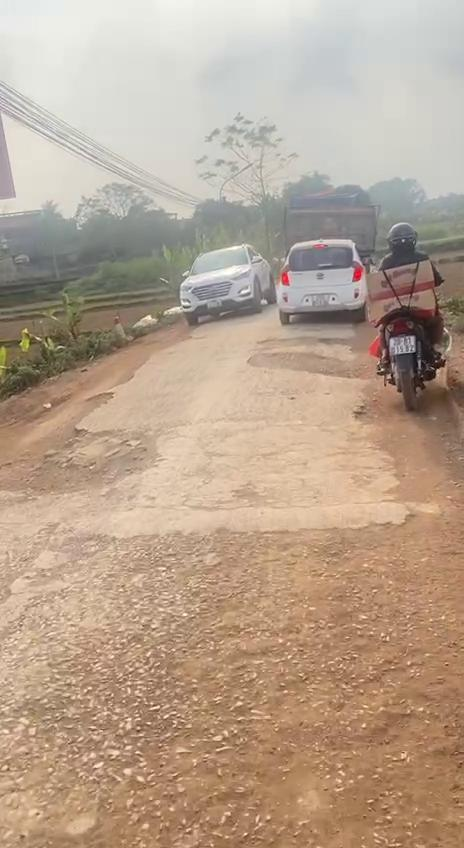pothole: (0, 382, 167, 499), (245, 334, 372, 378), (352, 394, 378, 428)
